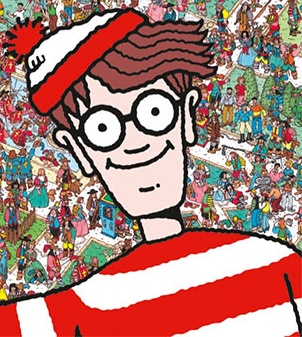waldo: (7, 10, 299, 336), (9, 8, 225, 230)
